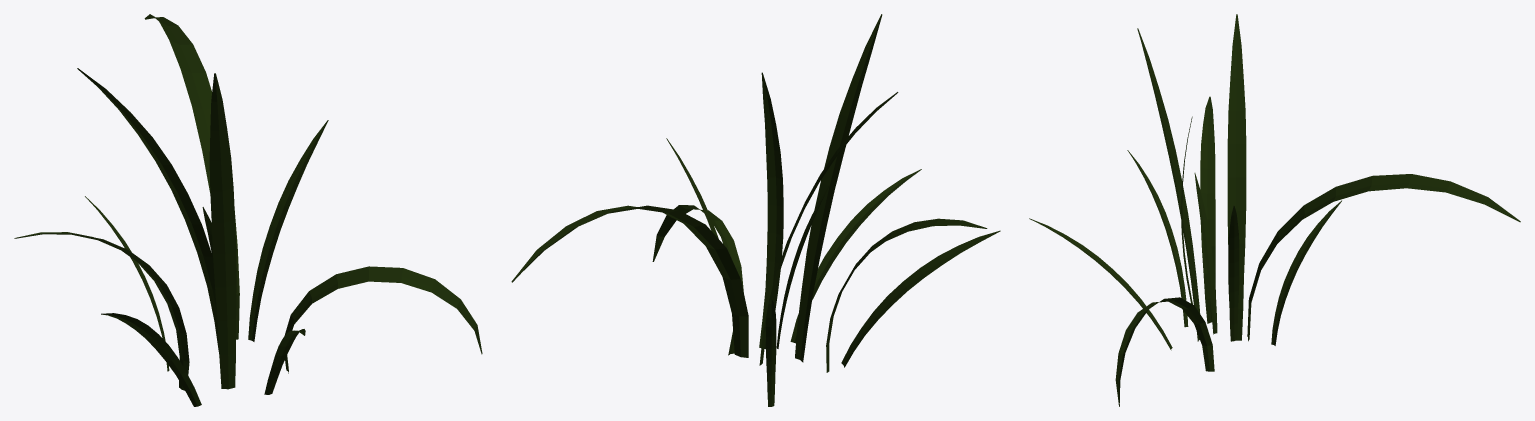
Rendered from touffedherbe.obj.
The picture shows the model from 3 angles, left to right: view 1: azimuth 30°, elevation 25°; view 2: azimuth 150°, elevation 25°; view 3: azimuth 270°, elevation 25°; orthographic projection. The views are drawn at different scales.
Visible parts, largest first — view 1: Plan.005, Plan.001, Plan.006, Plan.003, Plan, Plan.008, Plan.010, Plan.007, Plan.009; view 2: Plan.005, Plan.001, Plan.002, Plan.010, Plan.007, Plan.006, Plan.008, Plan.003, Plan.009, Plan.004; view 3: Plan.003, Plan.001, Plan.008, Plan.005, Plan.006, Plan, Plan.009, Plan.004, Plan.010, Plan.007.
Part boxes in pixels (x1=…): Plan.005: x1=209, y1=73, x2=236, y2=389; Plan.001: x1=144, y1=14, x2=239, y2=339; Plan.006: x1=284, y1=266, x2=482, y2=373; Plan.003: x1=77, y1=68, x2=219, y2=353; Plan: x1=248, y1=120, x2=328, y2=341; Plan.008: x1=14, y1=232, x2=189, y2=390; Plan.010: x1=101, y1=313, x2=201, y2=406; Plan.007: x1=264, y1=329, x2=305, y2=394; Plan.009: x1=85, y1=196, x2=169, y2=371; Plan.005: x1=795, y1=14, x2=882, y2=362; Plan.001: x1=511, y1=205, x2=748, y2=357; Plan.002: x1=759, y1=72, x2=783, y2=349; Plan.010: x1=841, y1=230, x2=1000, y2=367; Plan.007: x1=790, y1=169, x2=921, y2=343; Plan.006: x1=652, y1=205, x2=743, y2=355; Plan.008: x1=826, y1=218, x2=987, y2=372; Plan.003: x1=759, y1=92, x2=898, y2=365; Plan.009: x1=765, y1=299, x2=776, y2=406; Plan.004: x1=776, y1=186, x2=828, y2=348; Plan.003: x1=1227, y1=14, x2=1246, y2=341; Plan.001: x1=1247, y1=174, x2=1520, y2=341; Plan.008: x1=1200, y1=96, x2=1215, y2=323; Plan.005: x1=1137, y1=28, x2=1200, y2=341; Plan.006: x1=1115, y1=297, x2=1214, y2=406; Plan: x1=1228, y1=206, x2=1239, y2=341; Plan.009: x1=1271, y1=200, x2=1341, y2=345; Plan.004: x1=1194, y1=173, x2=1217, y2=334; Plan.010: x1=1127, y1=150, x2=1188, y2=327; Plan.007: x1=1029, y1=218, x2=1172, y2=350.
Bounding box in the file's own units: 1.18 × 1.01 × 1.48.
